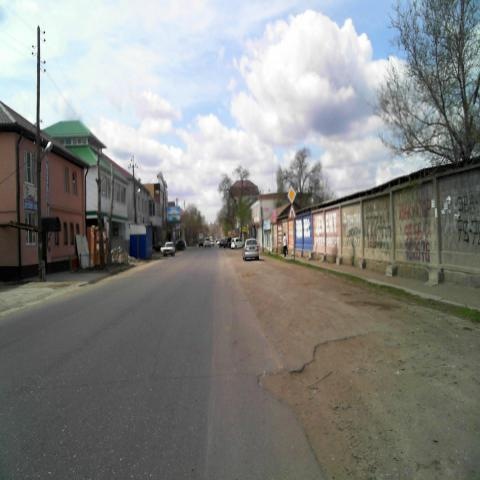1_20_2: (288, 204, 296, 218)
